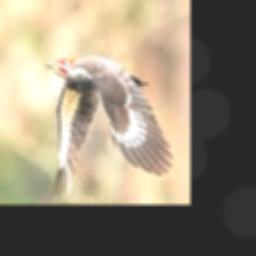Woodpecker: (45, 55, 174, 195)
